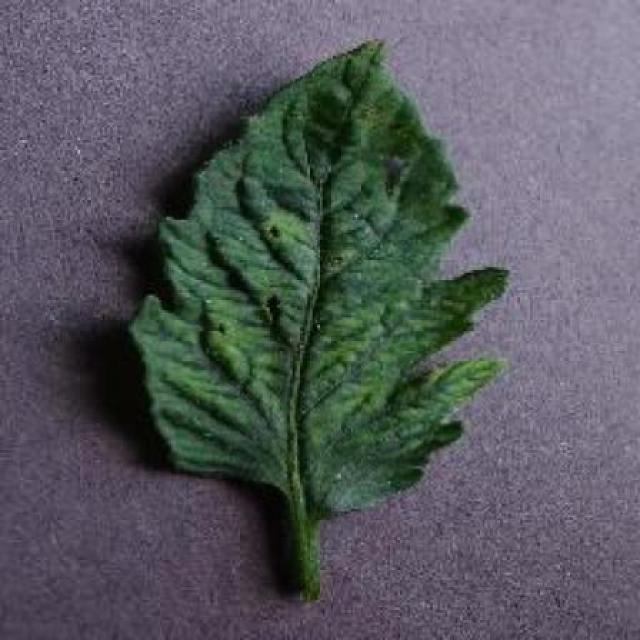Mosaic Virus: (123, 37, 514, 520)
